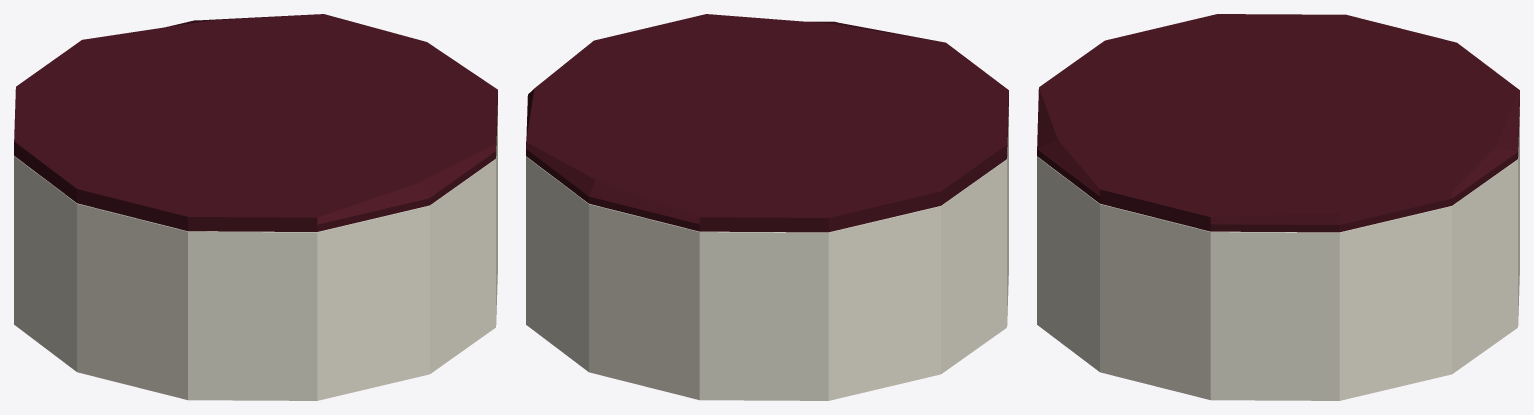
File: layer3smallest.glb
3 renders of one model, left to right at view 1: azimuth 30°, elevation 25°; view 2: azimuth 150°, elevation 25°; view 3: azimuth 270°, elevation 25°, orthographic.
Parts seen in each view (by area): view 1: Cylinder.017, Cylinder.015, Cylinder.016; view 2: Cylinder.017, Cylinder.015, Cylinder.016; view 3: Cylinder.015, Cylinder.017, Cylinder.016.
Boxes of the visible parts, left/top/right/bottom form: Cylinder.017: left=14, top=106, right=497, bottom=400; Cylinder.015: left=14, top=14, right=497, bottom=224; Cylinder.016: left=14, top=20, right=497, bottom=231; Cylinder.017: left=526, top=107, right=1008, bottom=400; Cylinder.015: left=526, top=14, right=1008, bottom=225; Cylinder.016: left=526, top=21, right=1008, bottom=232; Cylinder.015: left=1037, top=14, right=1519, bottom=224; Cylinder.017: left=1037, top=107, right=1519, bottom=400; Cylinder.016: left=1037, top=97, right=1519, bottom=232.
Bounding box in the file's own units: 0.9503 × 0.4 × 0.9503.
